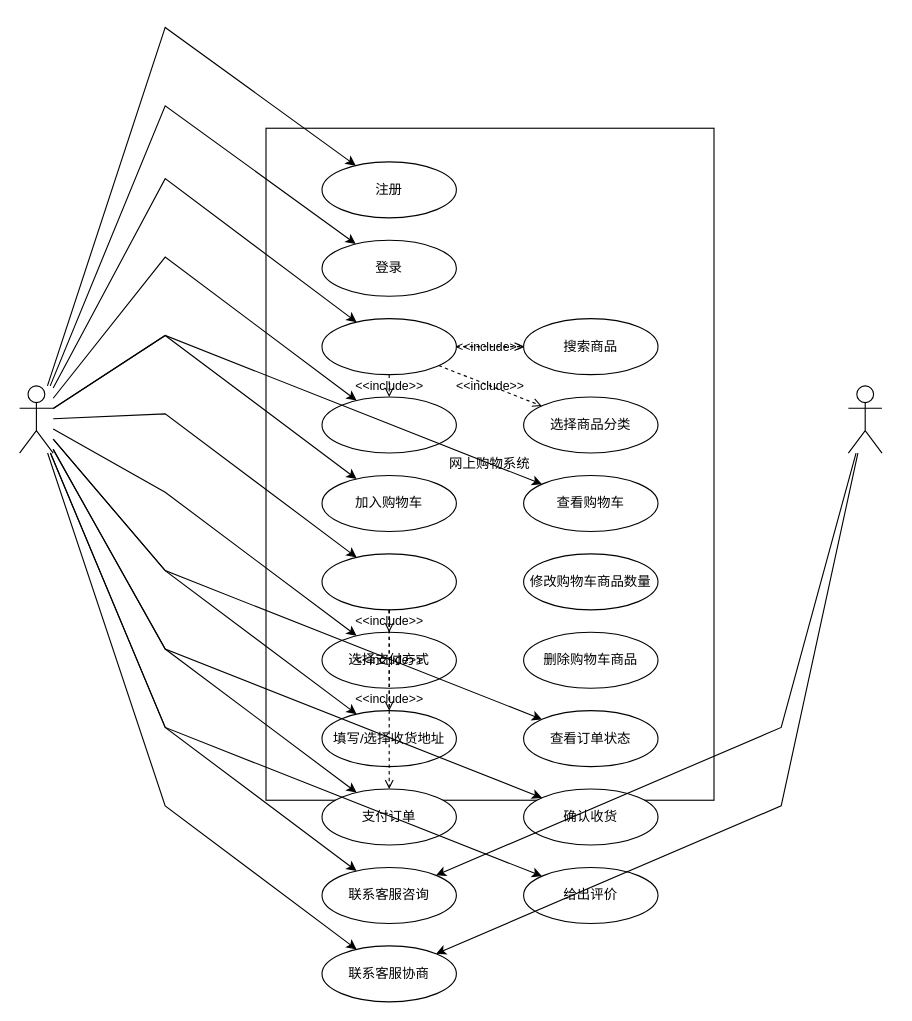
Some shapes in this 912 by 1021 pixel diagram are drawn without their labels. Here are the shapes that lost their labels. From the top down, the box of each, then its label:
(321, 318, 456, 375): 浏览商品
(18, 385, 53, 453): 用户
(321, 396, 456, 453): 查看商品详情
(847, 385, 882, 453): 客服人员
(321, 553, 456, 610): 结账
